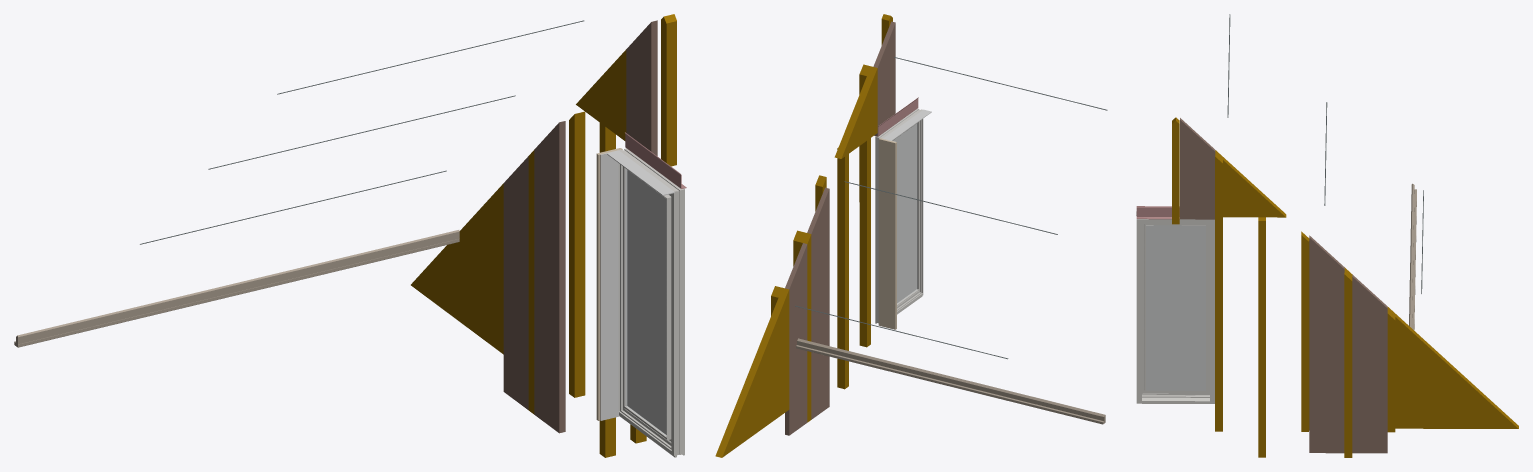
3 views of the same model, side by side, from view 1: azimuth 30°, elevation 25°; view 2: azimuth 150°, elevation 25°; view 3: azimuth 270°, elevation 25° (orthographic). The views are drawn at different scales.
Size of the model in its own units: 5.05 by 4.79 by 4.94.
